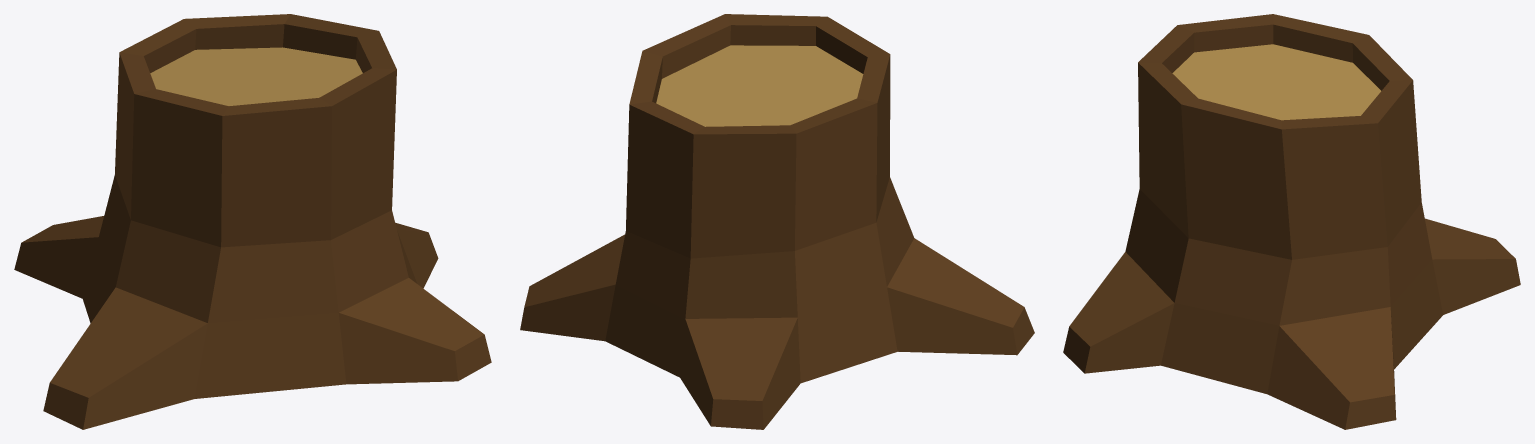
Rendered from stump-03.glb.
The picture shows the model from 3 angles, left to right: view 1: azimuth 30°, elevation 25°; view 2: azimuth 150°, elevation 25°; view 3: azimuth 270°, elevation 25°; orthographic projection. The views are drawn at different scales.
Parts seen in each view (by area): view 1: Stump1.001; view 2: Stump1.001; view 3: Stump1.001.
Boxes of the visible parts, x1,y1,x2,y2 form: Stump1.001: [14, 14, 491, 429]; Stump1.001: [520, 14, 1034, 429]; Stump1.001: [1063, 14, 1520, 429].
Bounding box in the file's own units: 1.95 × 1.15 × 1.77.
